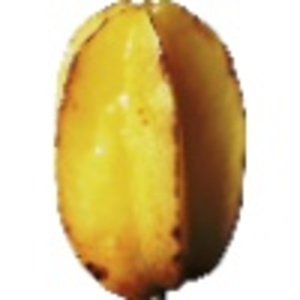carambola: (53, 1, 248, 300)
